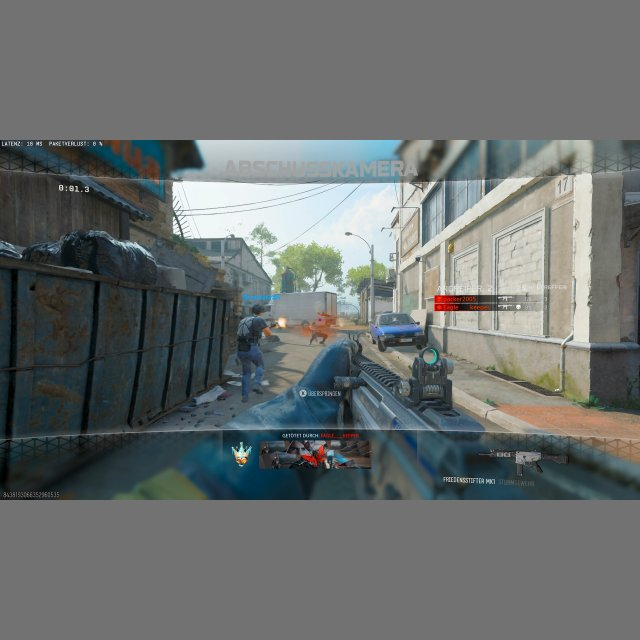head: (251, 303, 264, 316)
player: (236, 304, 279, 402)
